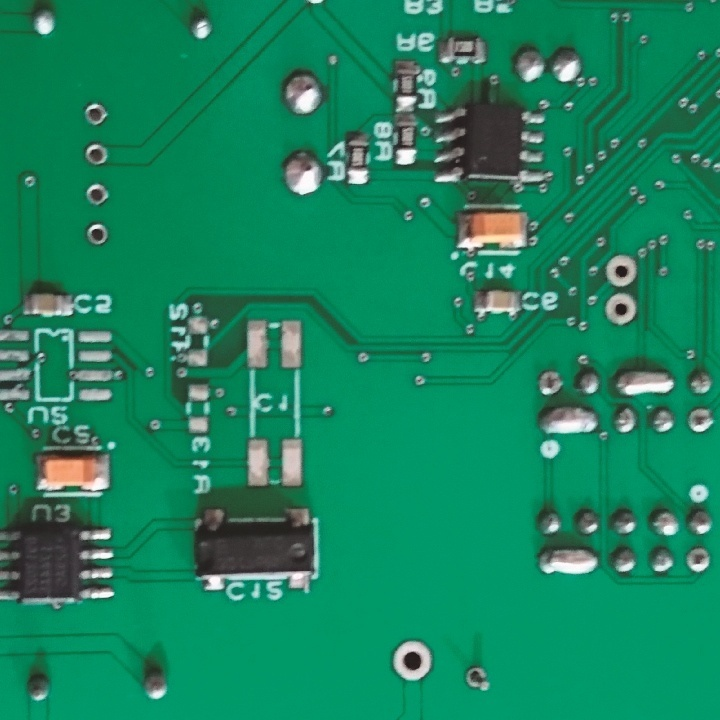F: (390, 640, 436, 684), (606, 255, 638, 288), (686, 405, 720, 436), (606, 293, 637, 326), (462, 662, 489, 695), (685, 545, 712, 574), (537, 366, 563, 396), (83, 100, 108, 129), (83, 181, 110, 206), (84, 142, 110, 167), (85, 221, 107, 246)
P: (539, 541, 598, 581), (611, 365, 676, 400), (537, 403, 597, 437)
